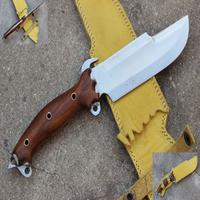knife: (7, 12, 192, 178)
